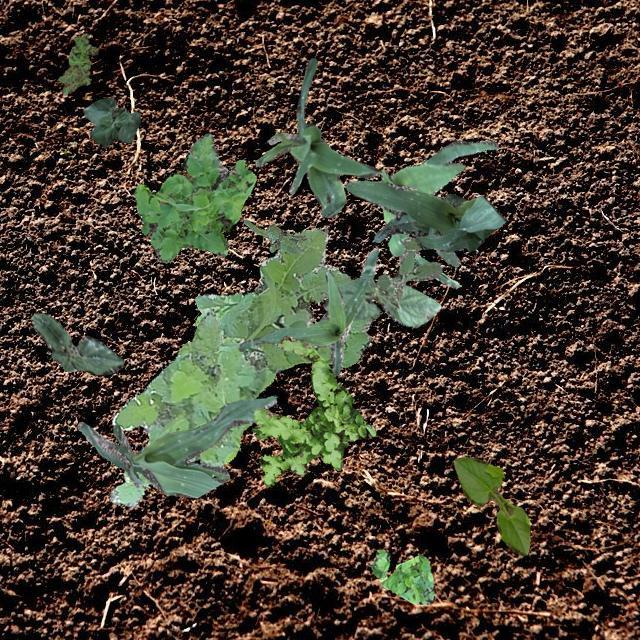crop: (77, 394, 276, 496), (255, 56, 378, 216), (238, 246, 378, 374), (379, 140, 497, 286), (344, 180, 504, 250), (452, 456, 530, 554), (322, 276, 440, 326), (29, 312, 122, 374), (82, 98, 140, 146), (444, 192, 466, 202)
weed: (109, 310, 274, 506), (193, 226, 371, 374), (252, 334, 374, 486), (134, 132, 255, 262), (376, 233, 459, 300), (368, 548, 432, 604), (58, 32, 96, 94), (242, 218, 306, 252)
